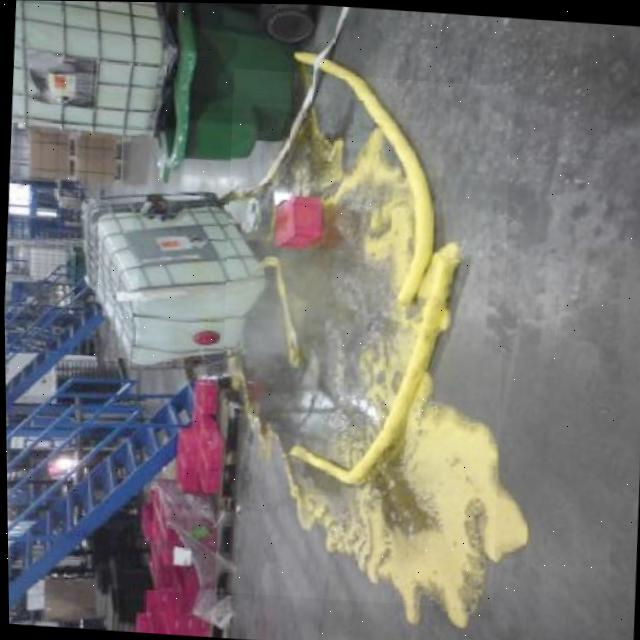spillage: (228, 73, 497, 606)
